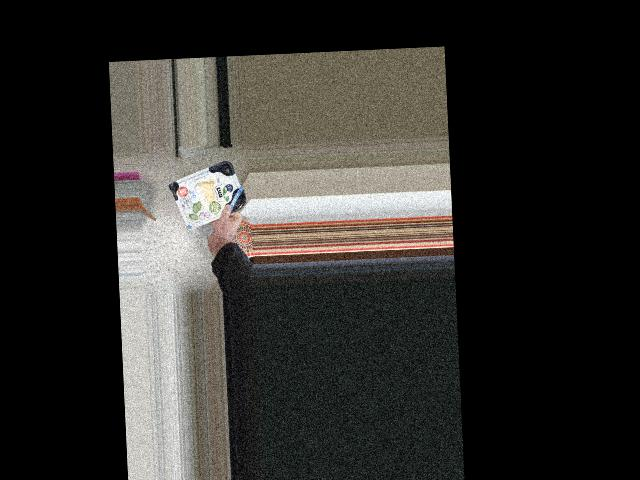cheese: (175, 168, 239, 222)
